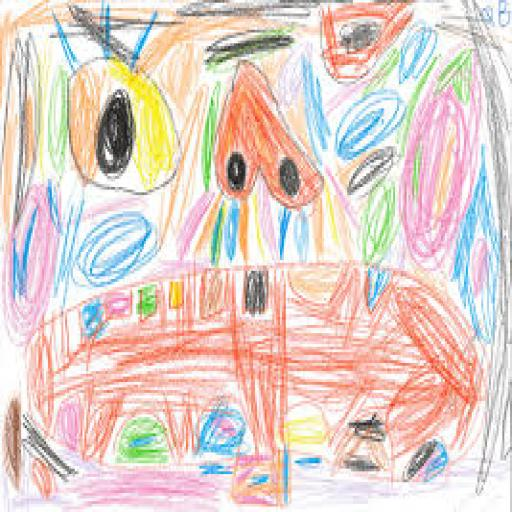person: (27, 52, 483, 503)
